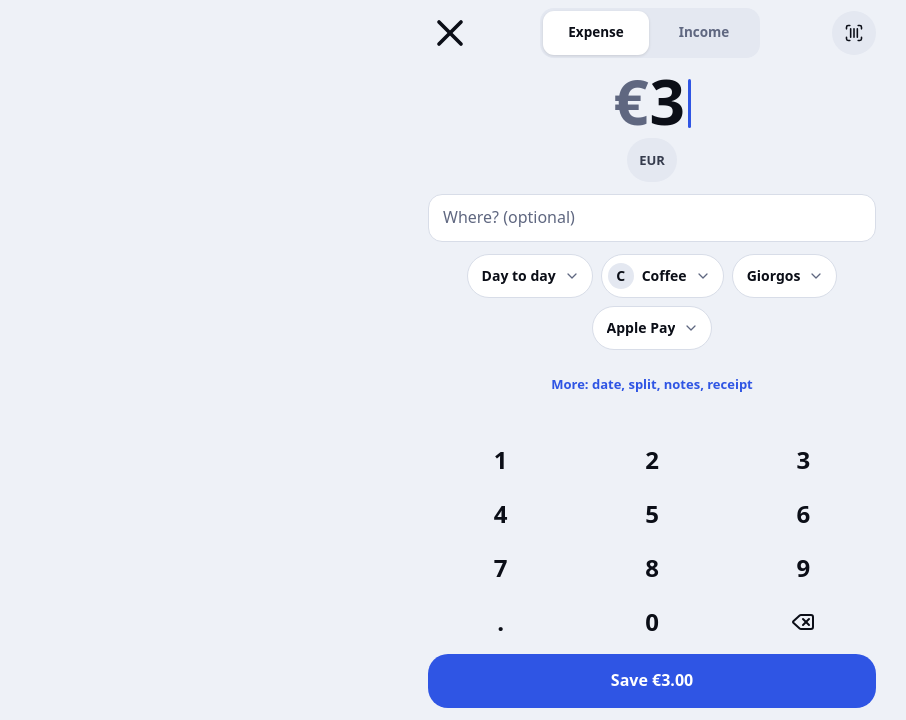
Test case: a card save leaves the cash reads alone
This screenshot has width=906, height=720.
Click the button with aria-label "Save 3 euro to Day to day" at (652, 681), box top-left (428, 654), bottom-right (876, 708)
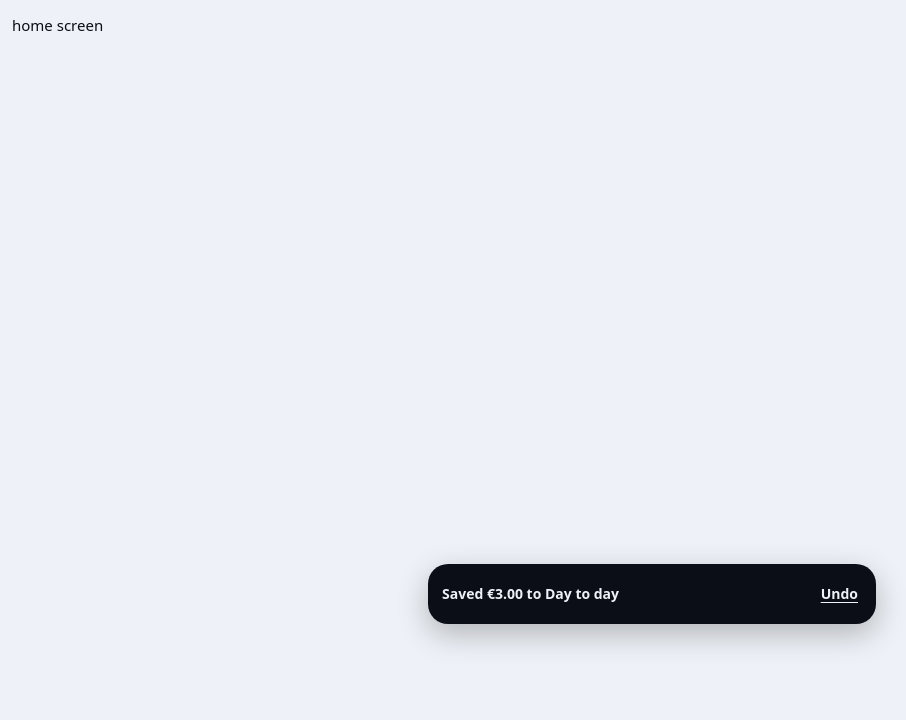
Check: the text "home screen" is shown, box top-left (12, 15), bottom-right (103, 35)
